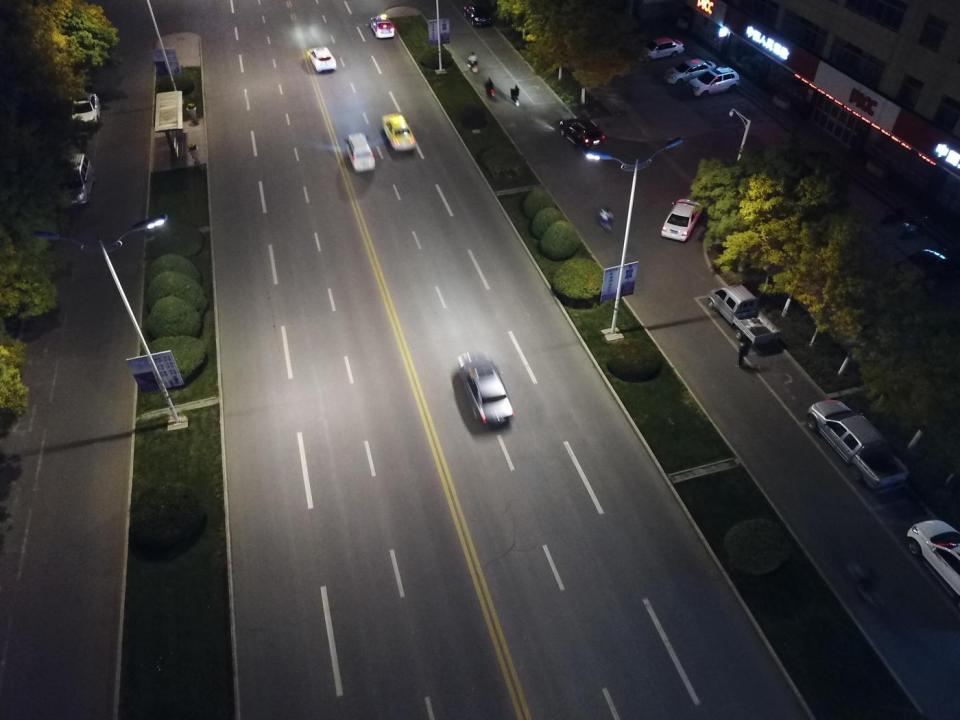car: (807, 398, 911, 493), (457, 351, 512, 427), (906, 519, 960, 594), (874, 250, 952, 298), (659, 193, 704, 240), (559, 114, 605, 154), (687, 66, 740, 100), (382, 113, 415, 156), (662, 57, 714, 84), (347, 130, 373, 172), (70, 91, 99, 128), (639, 37, 685, 60), (461, 0, 494, 30), (307, 45, 336, 72), (370, 13, 396, 39)
truck: (708, 281, 780, 349)
van: (54, 154, 93, 207)
